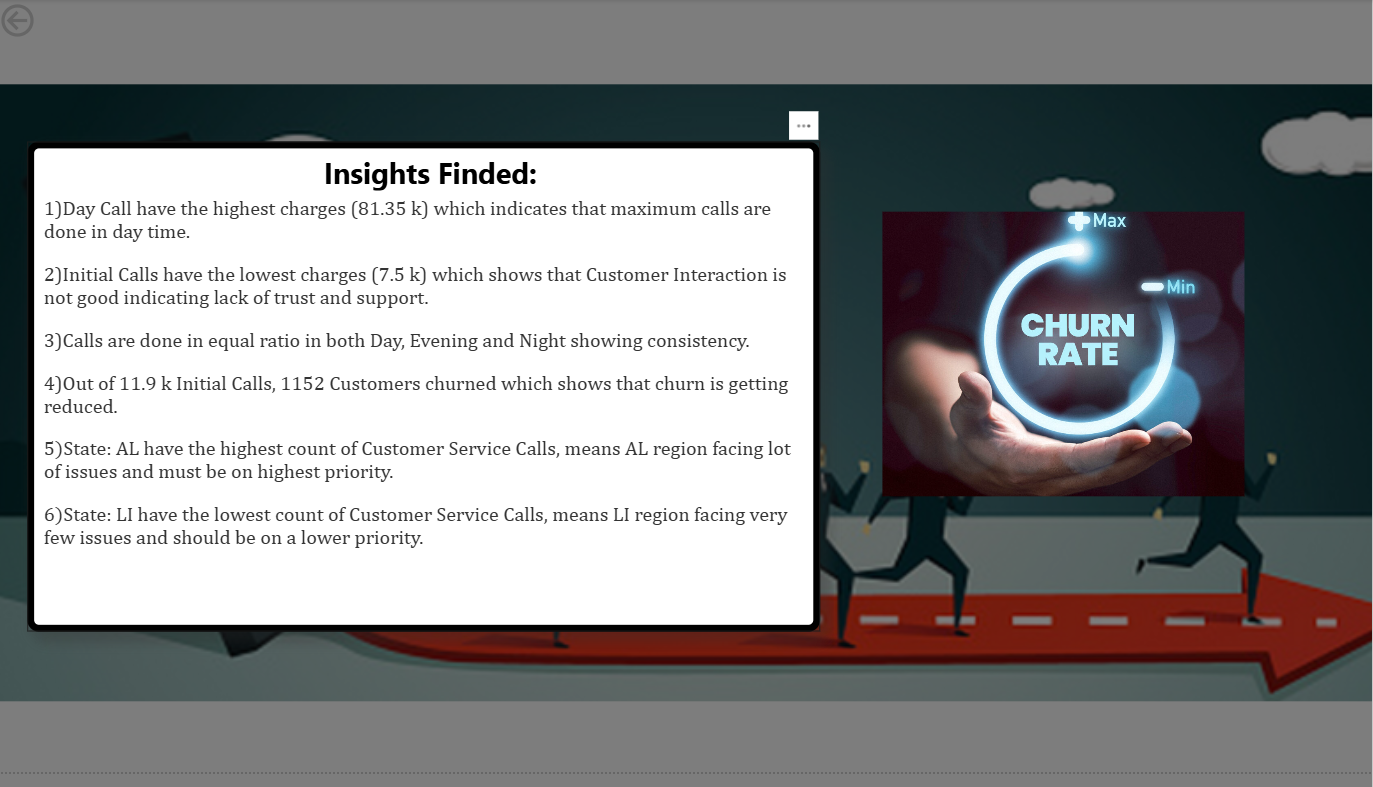

Layout of this report page (visuals, bound fields, positions):
{"tool":"powerbi","page":{"name":"Summary","canvas":[1280,720],"ordinal":4},"visuals":[{"type":"textbox","title":"Insights Finded:","box":[29.1,132.6,737.2,455.8],"z":0},{"type":"actionButton","box":[0,0,100,40],"z":2},{"type":"image","box":[819.8,193,346.5,274.4],"z":3}]}

Visuals, with their boxes in screenshot pixels (x1, y1, x2, y2):
"Insights Finded:" textbox: x1=31 y1=144 x2=811 y2=626
actionButton: x1=0 y1=4 x2=106 y2=46
image: x1=867 y1=208 x2=1234 y2=498
